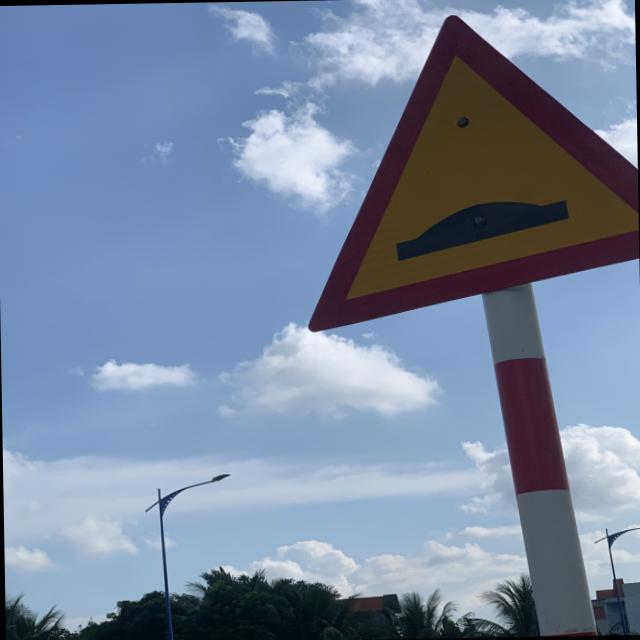Duong_Cong_Ben_Phai: (298, 10, 640, 336)
